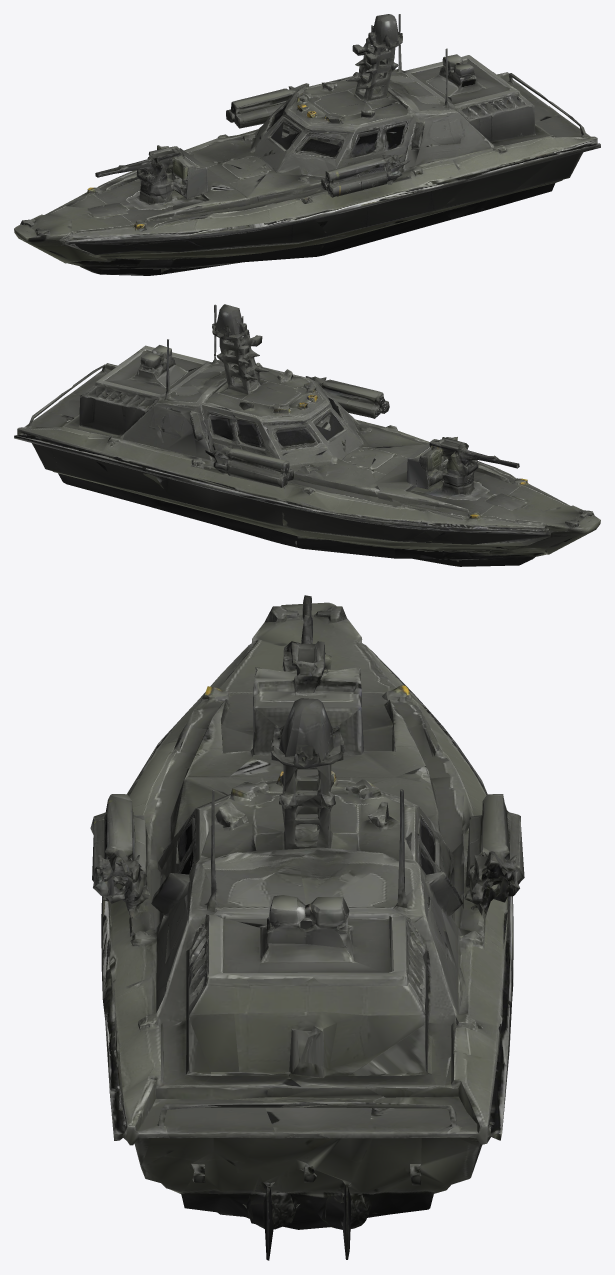
Rendered from irgc-fast-attack-craft-meshy6-web-strategic-v1.glb.
The picture shows the model from 3 angles, top to bottom: view 1: azimuth 30°, elevation 25°; view 2: azimuth 150°, elevation 25°; view 3: azimuth 270°, elevation 25°; orthographic projection. The views are drawn at different scales.
Bounding box in the file's own units: 1.89 × 0.6913 × 0.6664.
1 material, 1 textured.
